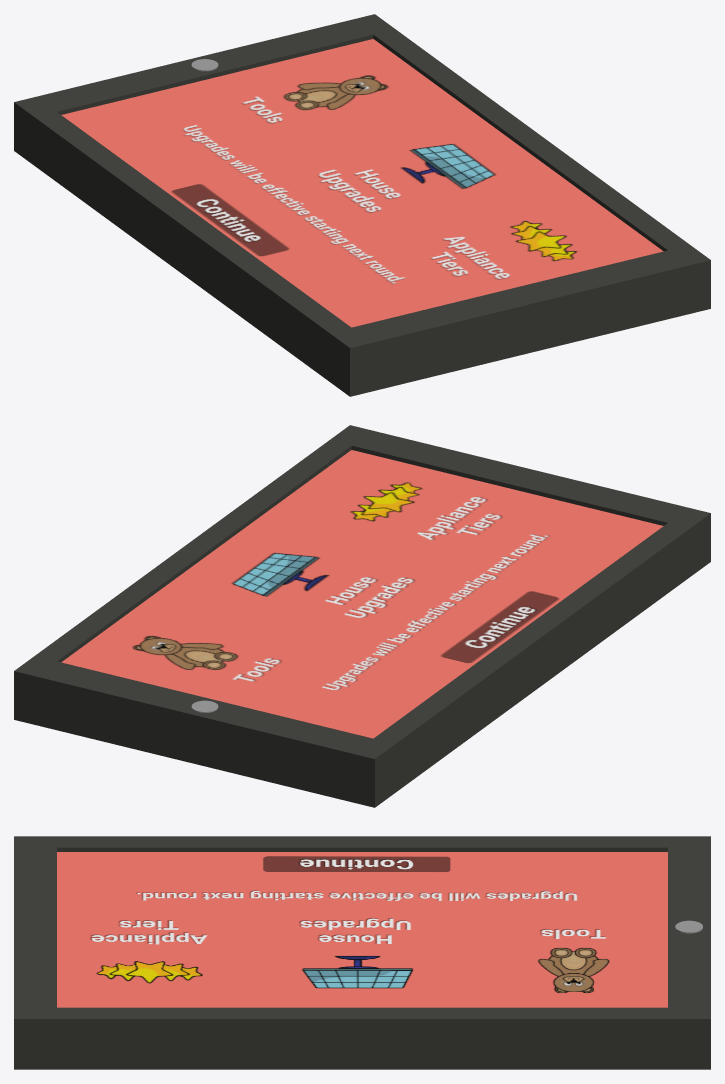
The model's file is Ipad.fbx.
3 views of the same model, one above another, from view 1: azimuth 30°, elevation 25°; view 2: azimuth 150°, elevation 25°; view 3: azimuth 270°, elevation 25° (orthographic). The views are drawn at different scales.
Visible parts, largest first — view 1: Cube; view 2: Cube; view 3: Cube.
Boxes of the visible parts, box(x1,y1,x2,y2) form: Cube: box(14, 14, 710, 396); Cube: box(14, 425, 710, 807); Cube: box(14, 836, 710, 1069).
Bounding box in the file's own units: 124 × 16.36 × 200.
3 materials, 1 textured.
